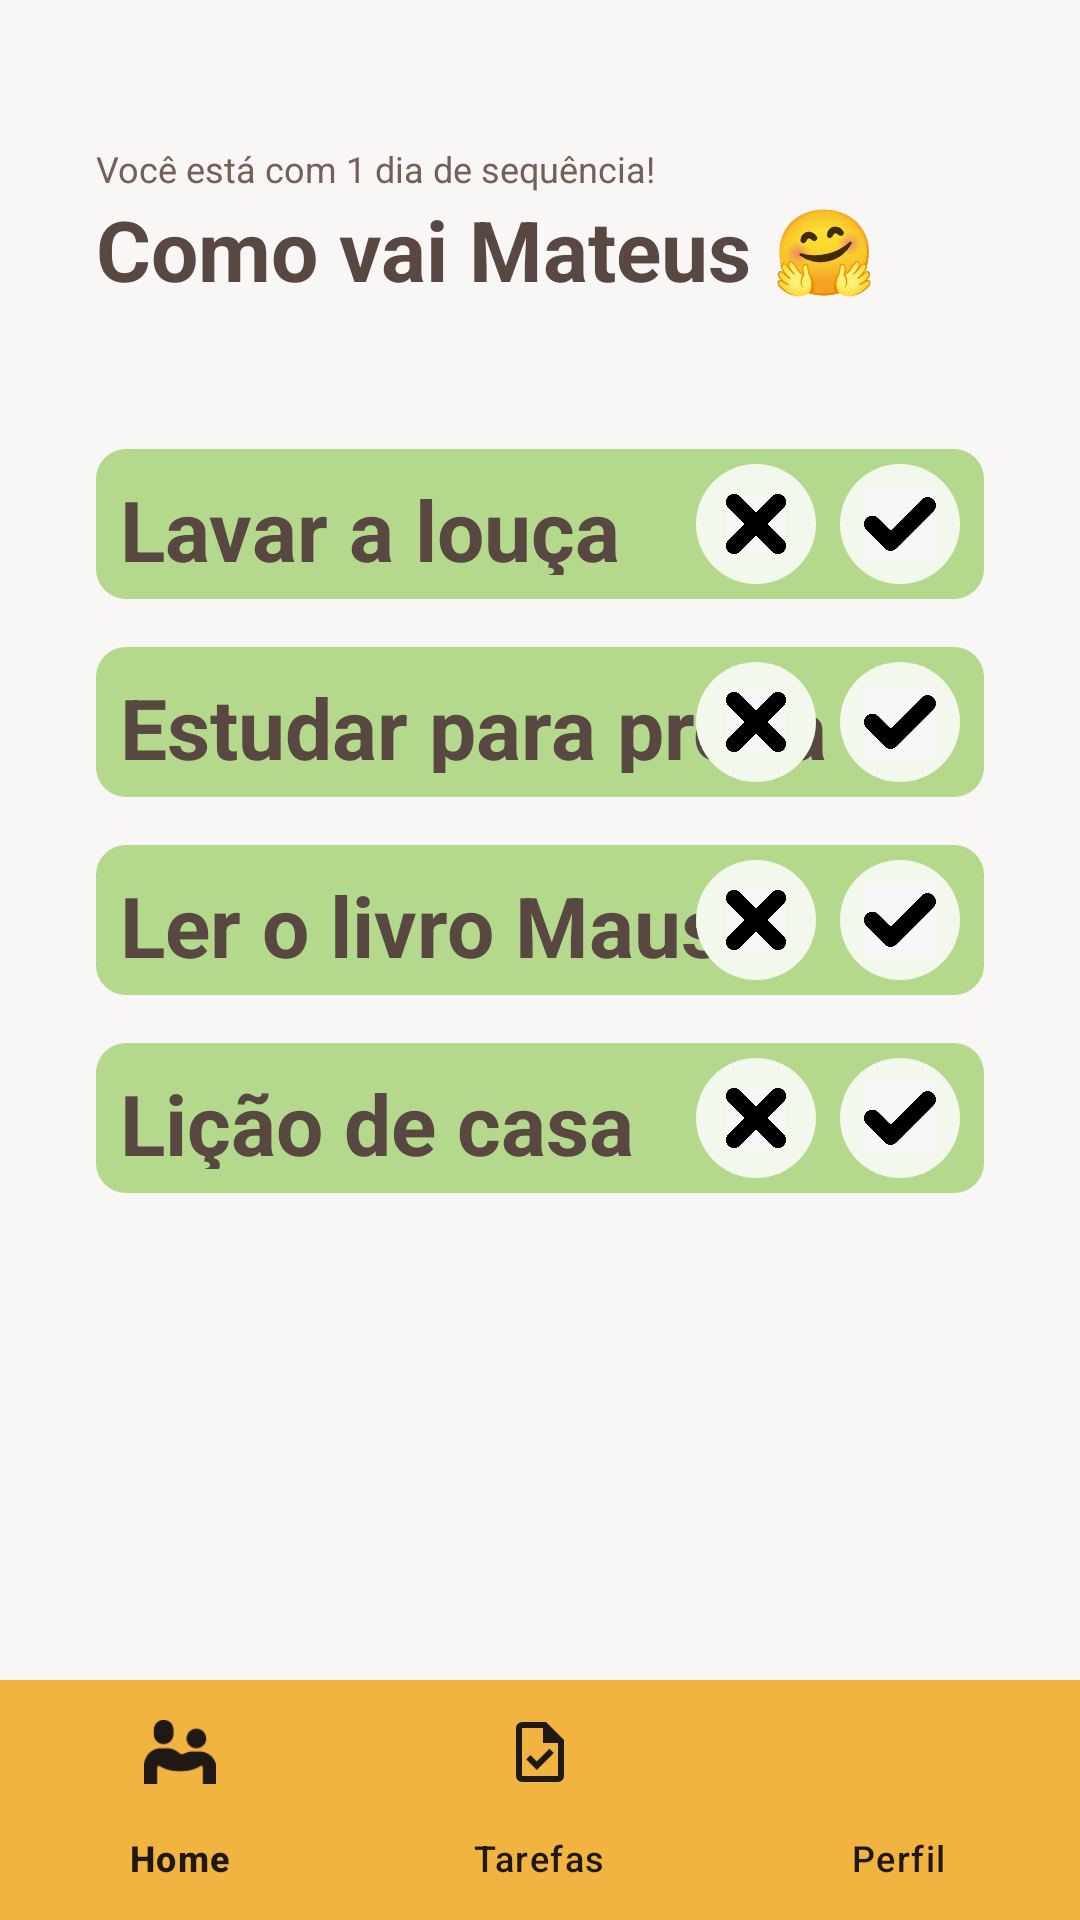

Point at icon controls on the screen. Image size 1080 x 1920, points as (x,y).
Botão Check: (900,524), (900,722), (900,920), (900,1118)
Botão X: (756,524), (756,722), (756,920), (756,1118)
